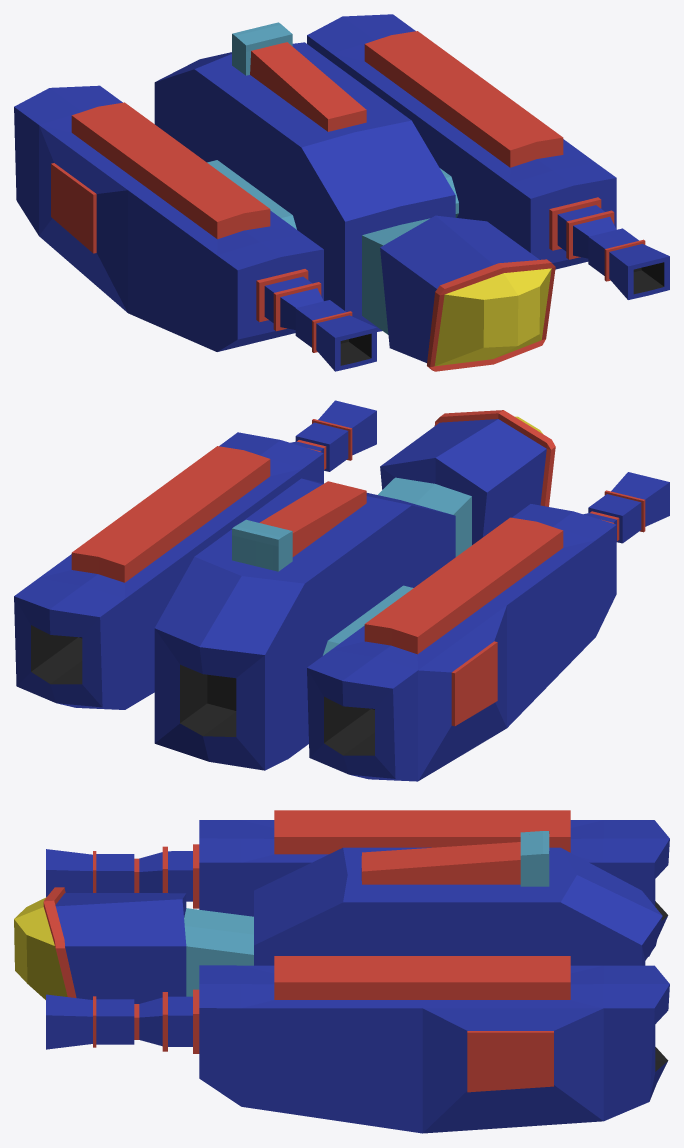
The model's file is SpaceShipBig.fbx.
3 renders of one model, top to bottom at view 1: azimuth 30°, elevation 25°; view 2: azimuth 150°, elevation 25°; view 3: azimuth 270°, elevation 25°, orthographic.
Visible parts, largest first — view 1: SpaceShip; view 2: SpaceShip; view 3: SpaceShip.
Boxes of the visible parts, left/top/right/bottom form: SpaceShip: left=14, top=14, right=669, bottom=371; SpaceShip: left=14, top=400, right=669, bottom=781; SpaceShip: left=14, top=810, right=669, bottom=1133.
Bounding box in the file's own units: 3.83 × 1.81 × 5.29.
